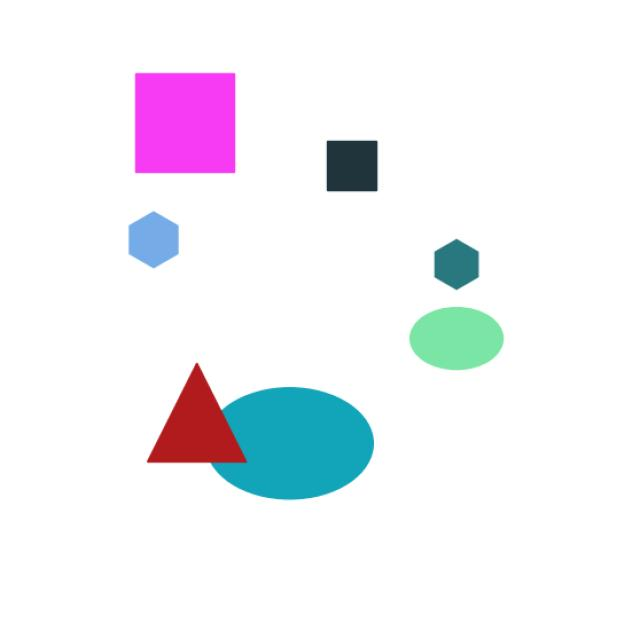Hexagon: (108, 209, 189, 276), (420, 235, 492, 293)
Oval: (192, 379, 397, 505), (390, 296, 519, 376)
Triangle: (131, 356, 268, 476)
square: (113, 50, 260, 195), (310, 133, 407, 200)
